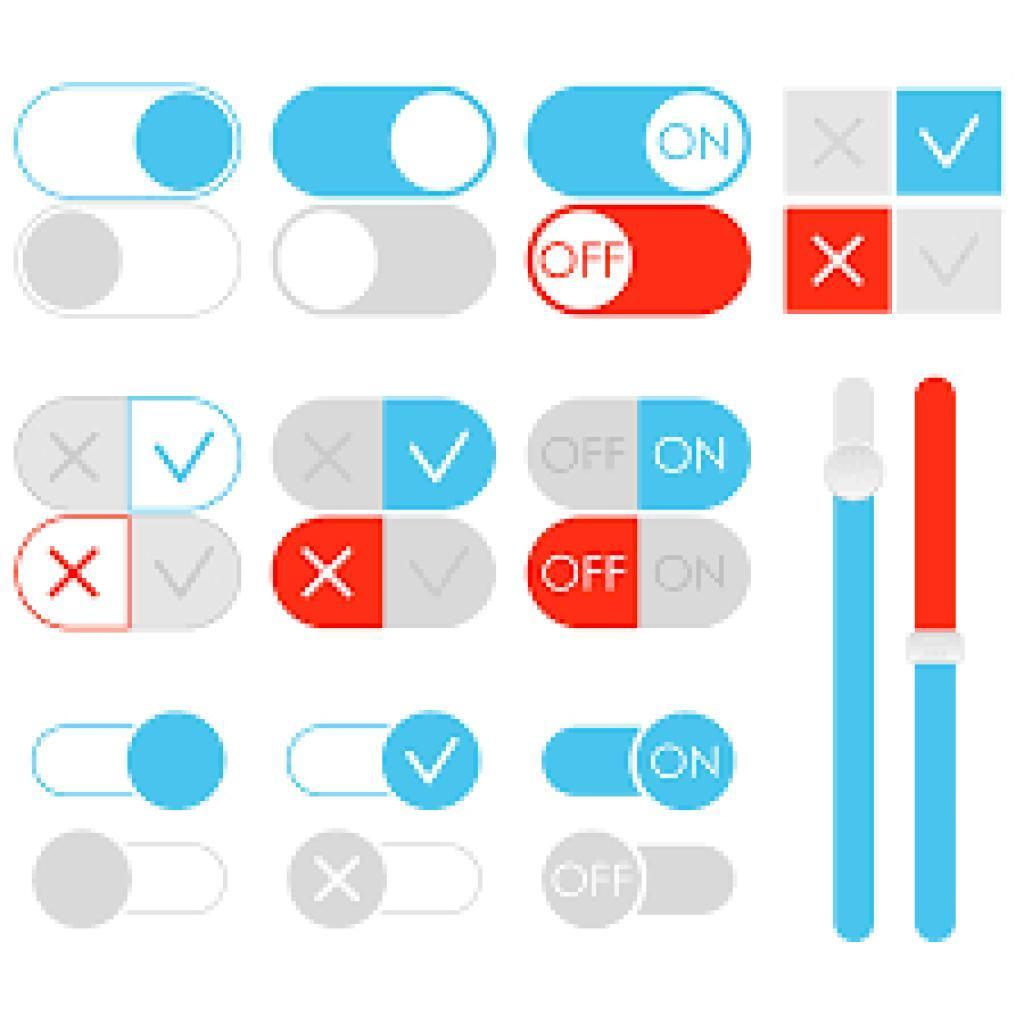checkbox: (899, 206, 1003, 313), (784, 90, 892, 192), (788, 206, 888, 316), (896, 94, 1004, 194)
slider: (901, 370, 980, 959), (814, 374, 886, 954)
switch: (8, 78, 247, 203), (266, 78, 507, 200), (12, 393, 244, 518), (268, 389, 495, 513), (272, 518, 508, 631), (9, 518, 248, 629), (521, 78, 745, 195), (525, 205, 751, 318), (13, 210, 244, 319), (527, 516, 750, 626), (272, 207, 497, 316), (525, 403, 751, 509), (519, 713, 755, 807), (284, 822, 490, 928), (27, 825, 237, 924), (282, 713, 483, 813), (542, 833, 755, 926), (26, 715, 229, 810)
